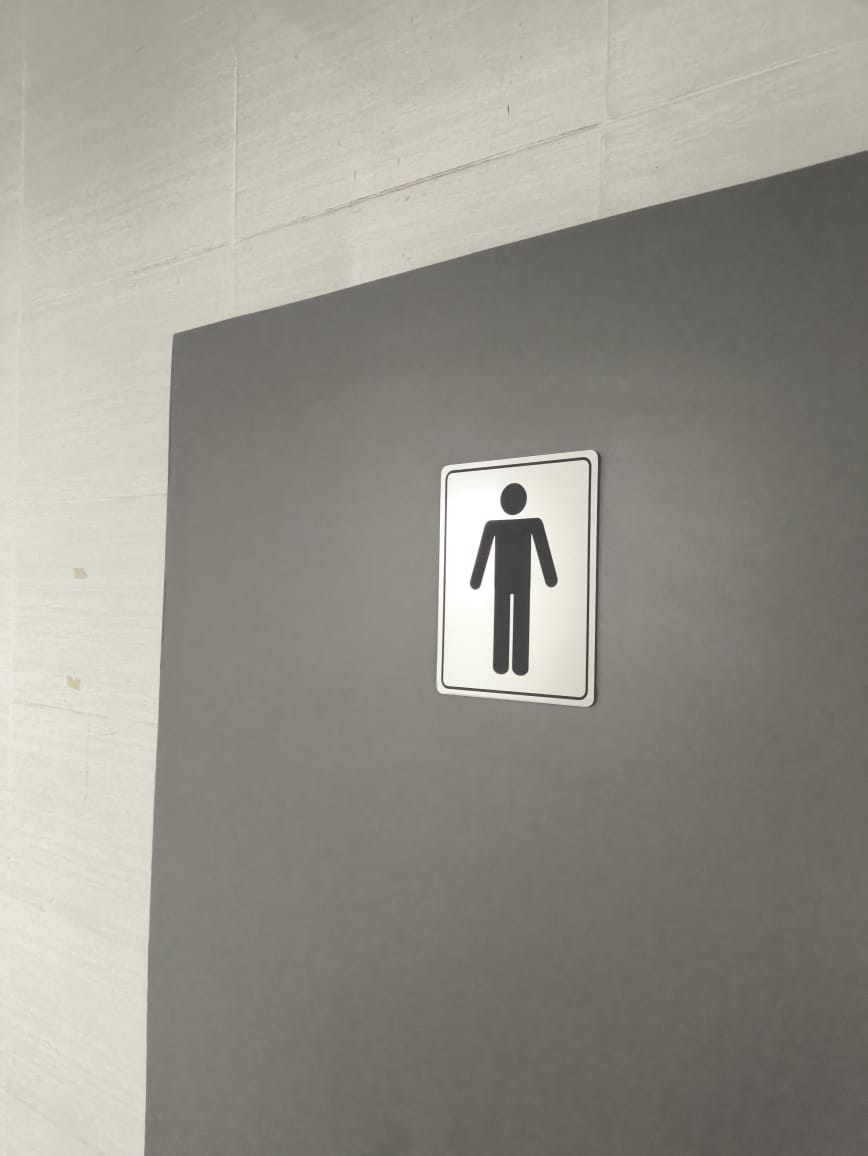toilet laki-laki: (427, 445, 612, 709)
